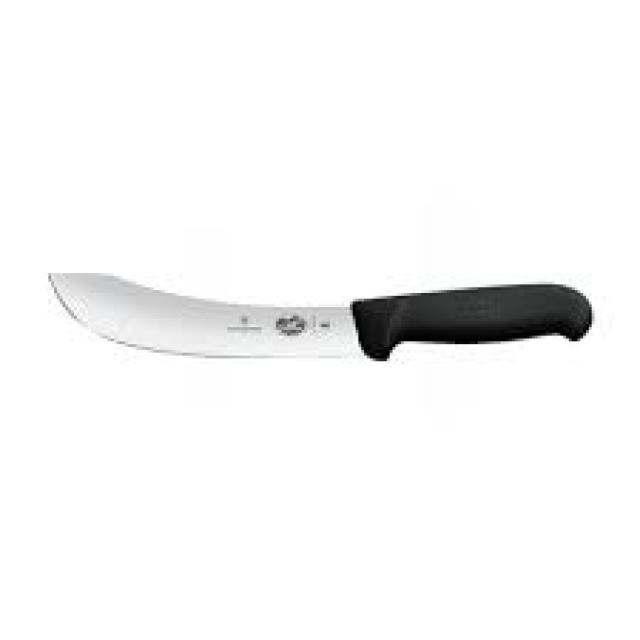Knife: (48, 273, 592, 358)
